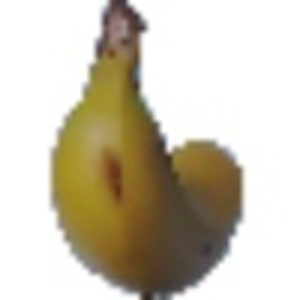banana: (47, 4, 247, 296)
